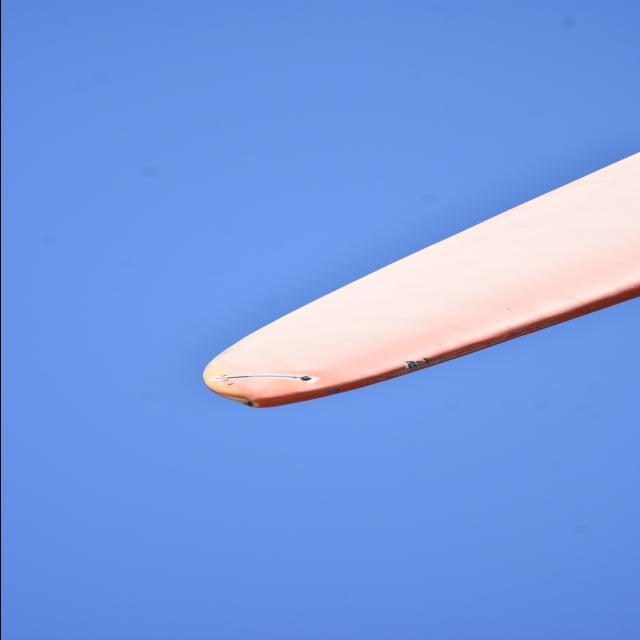Crack: (212, 368, 299, 389)
Erosion: (403, 354, 439, 377)
